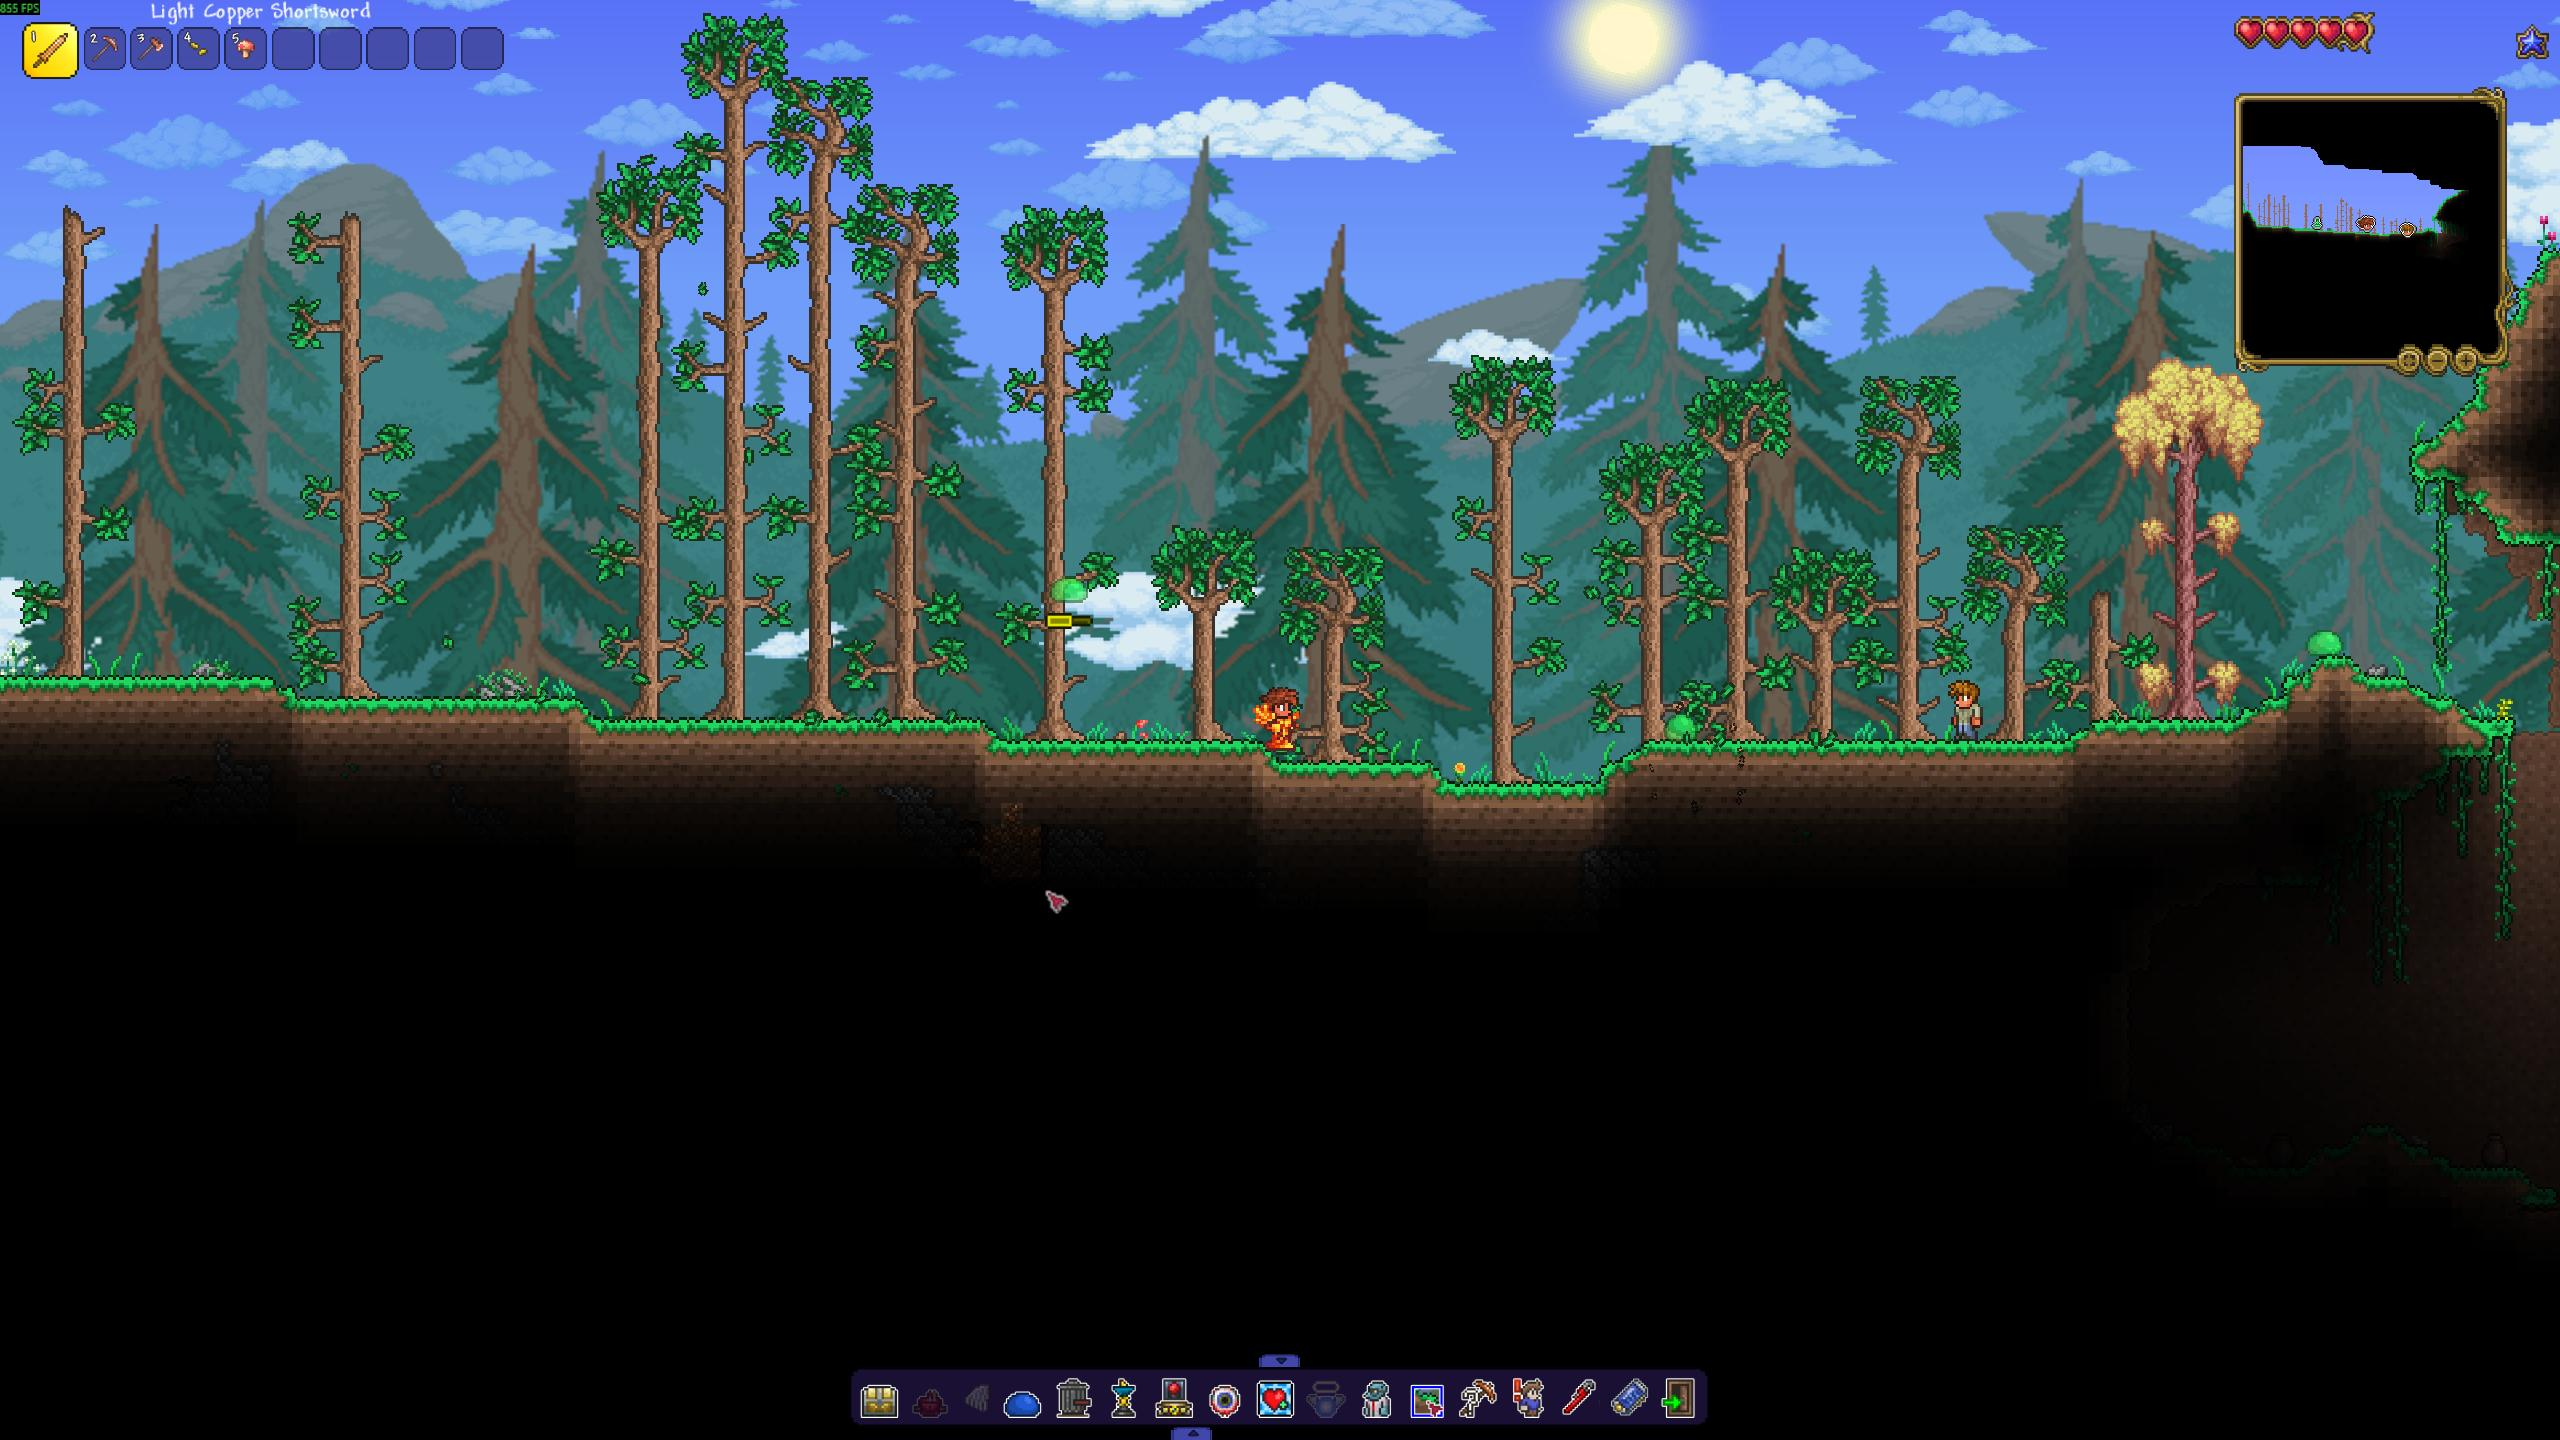Green Slime: (1662, 710, 1697, 744), (1050, 575, 1088, 603), (2305, 629, 2344, 656)
